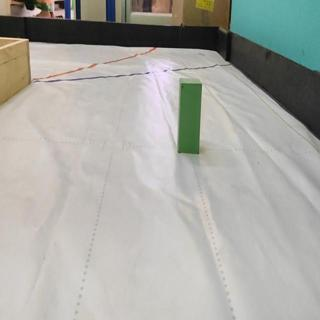greenbox: (177, 77, 201, 155)
